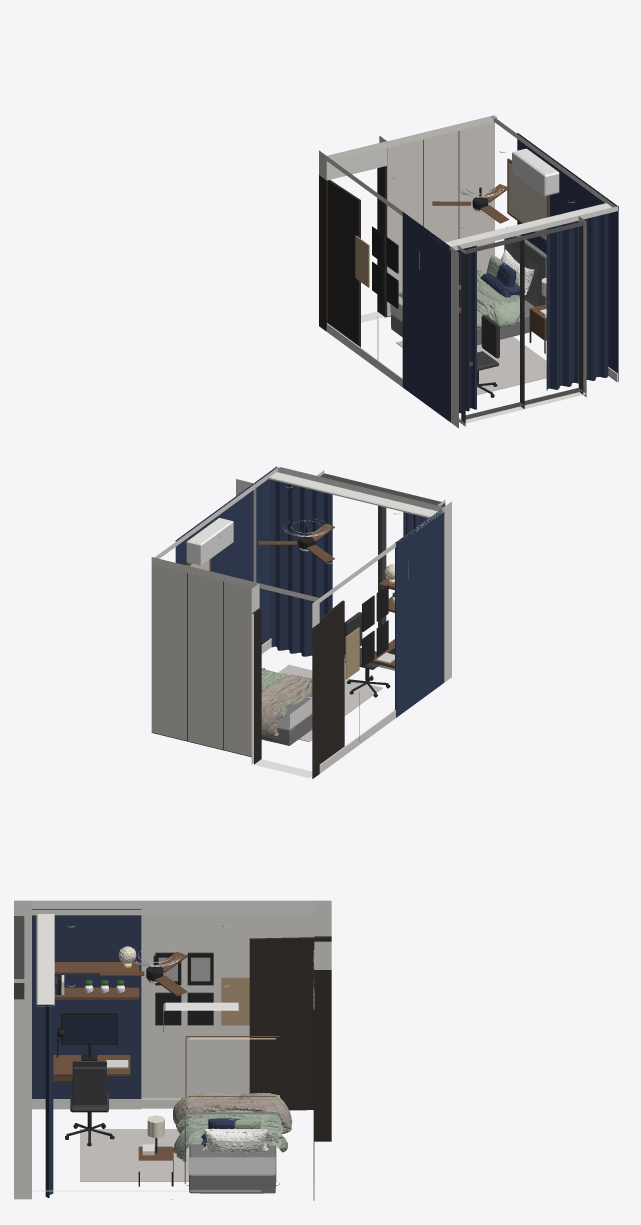
Rendered from ROOM2.glb.
3 views of the same model, one above another, from view 1: azimuth 30°, elevation 25°; view 2: azimuth 150°, elevation 25°; view 3: azimuth 270°, elevation 25° (orthographic). The views are drawn at different scales.
Visible parts, largest first — view 1: WEB_ROOM2; view 2: WEB_ROOM2; view 3: WEB_ROOM2.
Part boxes in pixels (x1,y1,x2,y2): WEB_ROOM2: (319,115,618,428); WEB_ROOM2: (151,466,451,778); WEB_ROOM2: (14,900,331,1200).
Bounding box in the file's own units: 5.35 × 2.5 × 6.95.
